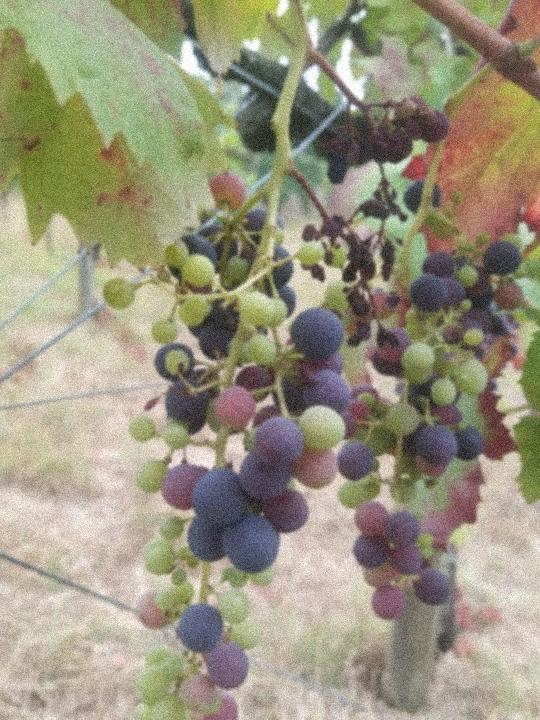grape: (96, 173, 400, 720), (322, 95, 452, 280)
